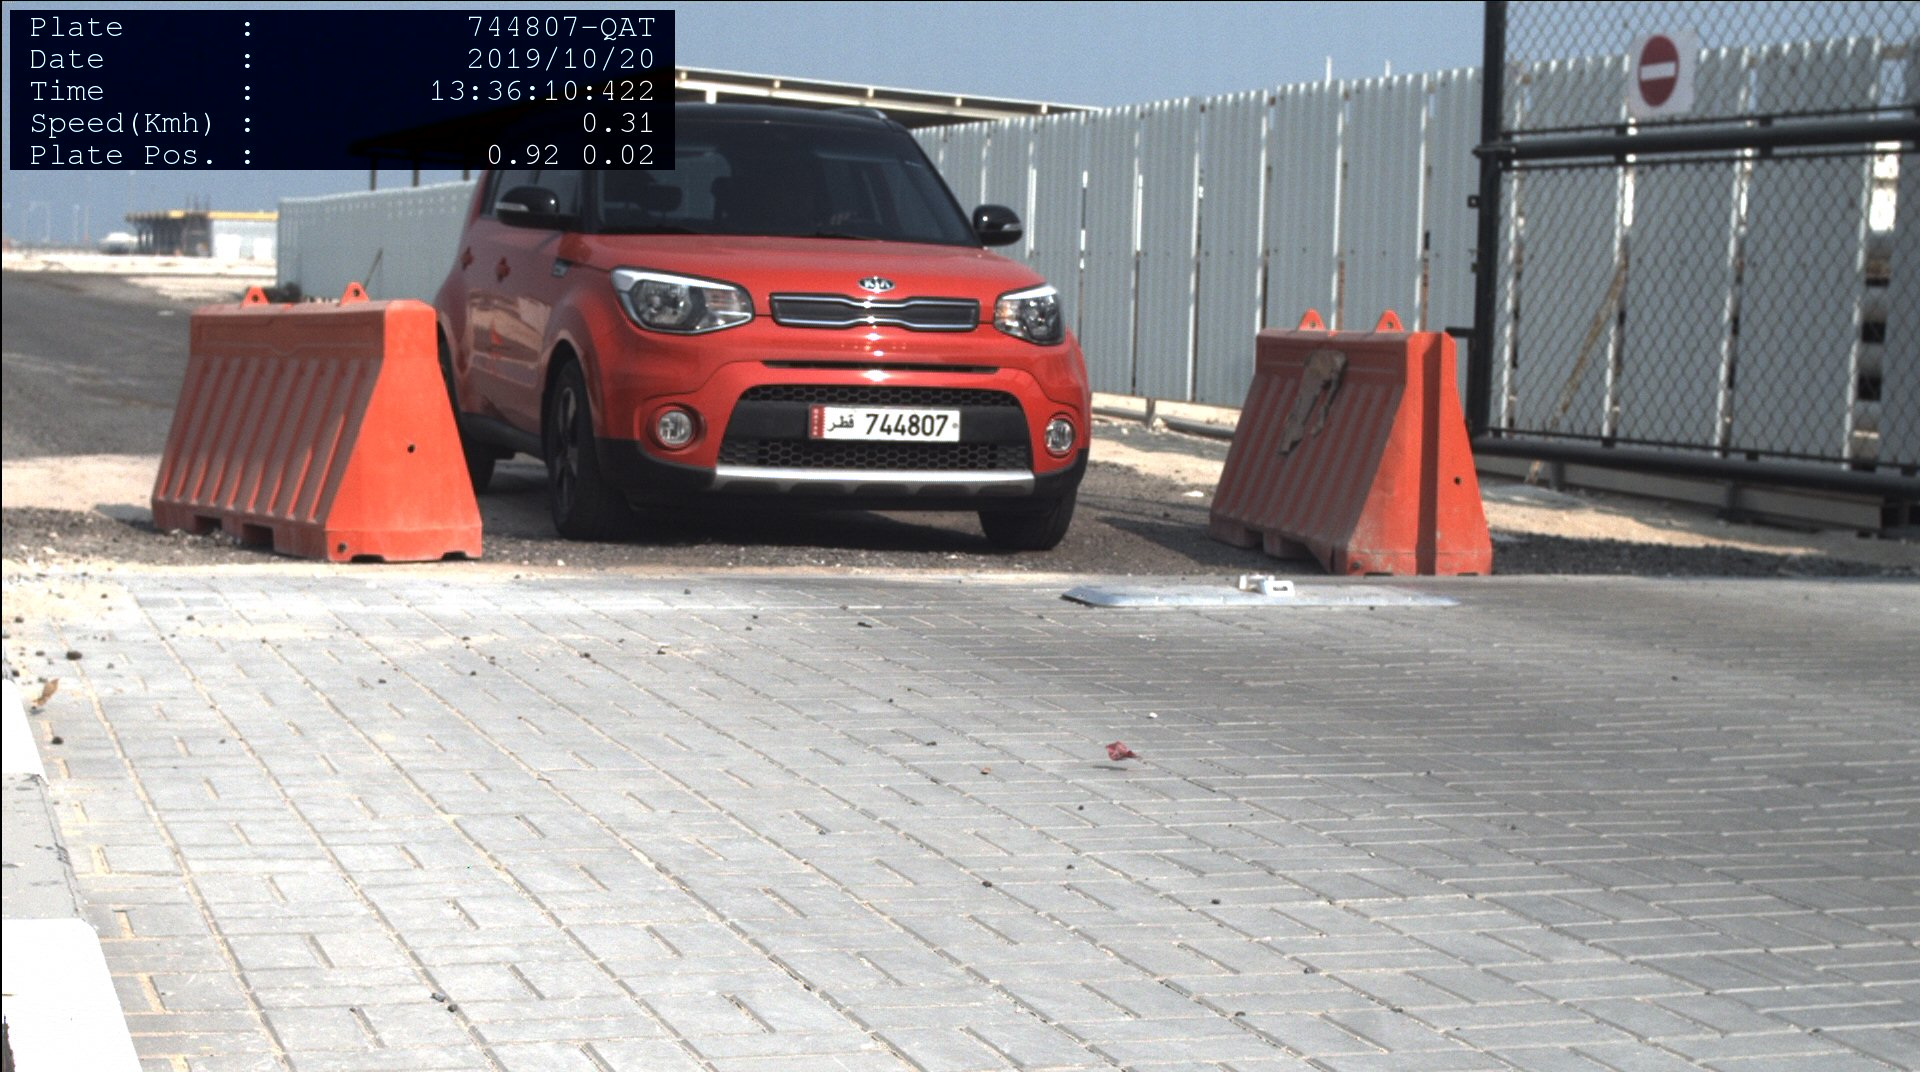License Plate: (808, 406, 961, 441)
